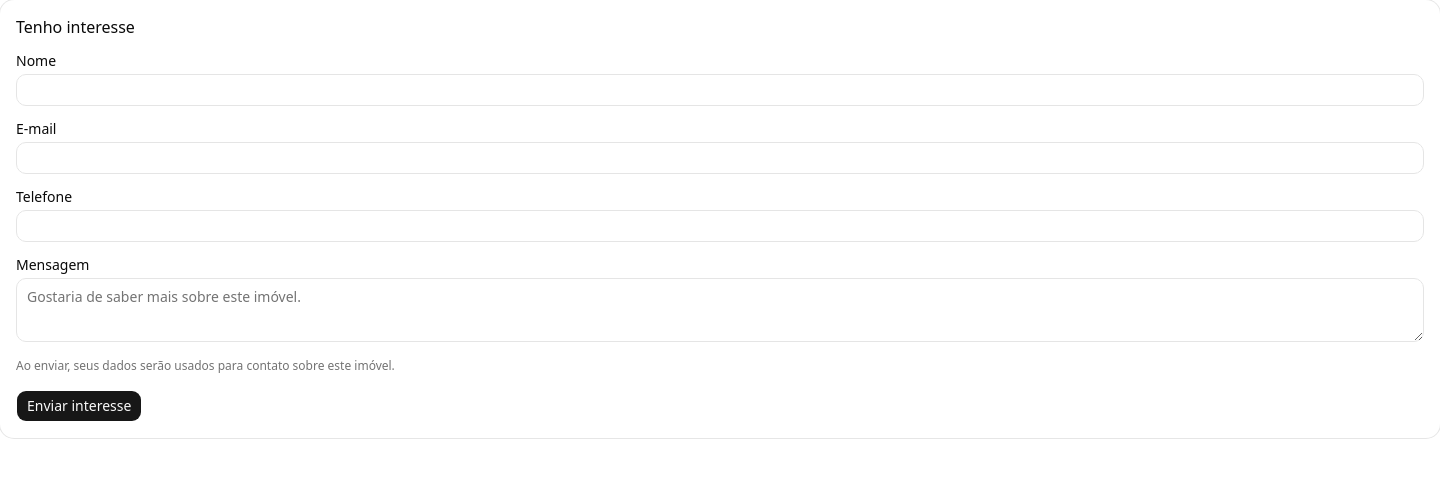
Test case: PropertyInterestForm — error handling › shows the rate-limit message for 429
Step 1. Type "Maria Souza" into the field labelled "Nome" → (720, 90), box x1=16 y1=74 x2=1424 y2=106
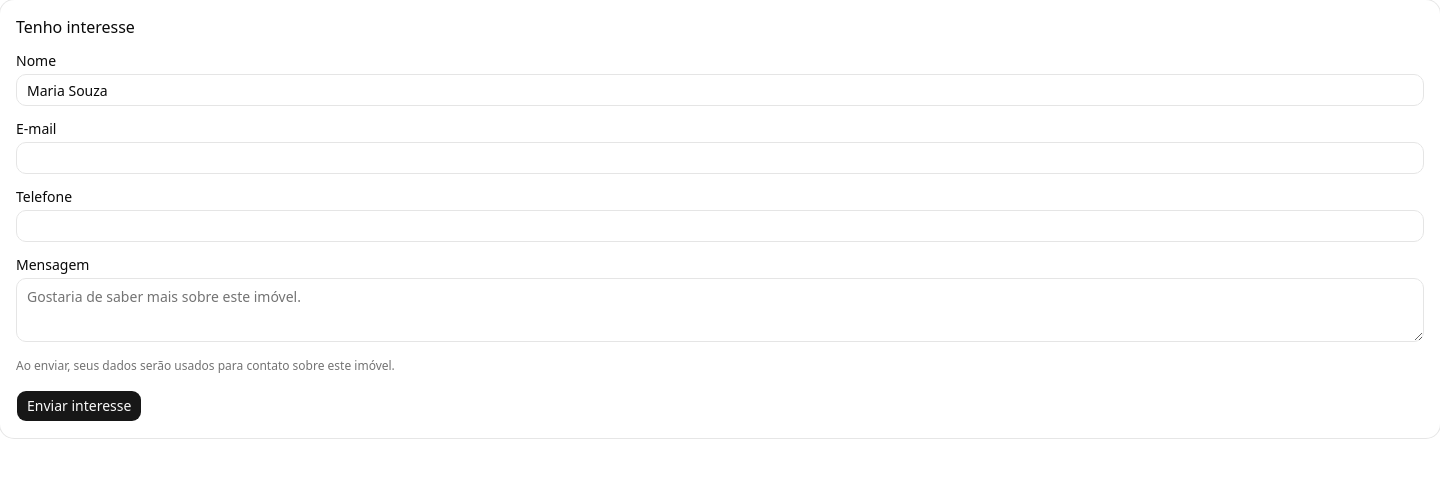
Step 2. Type "maria@example.com" into the field labelled "E-mail" → (720, 158), box x1=16 y1=142 x2=1424 y2=174
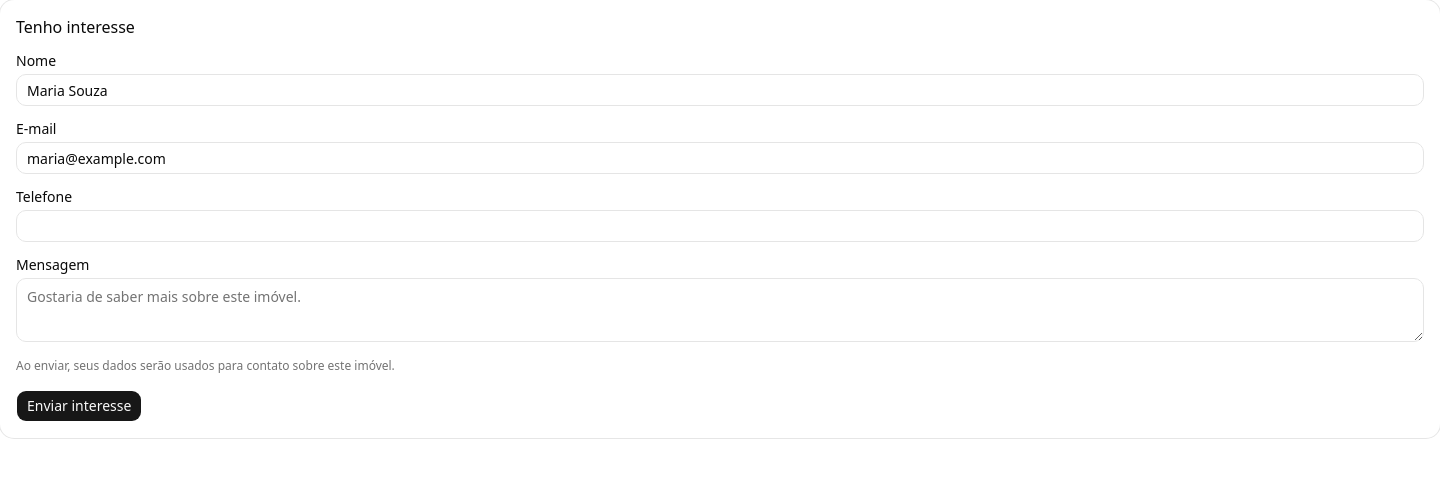
Step 3. Click the button "Enviar interesse" → (79, 406), box x1=16 y1=390 x2=142 y2=422
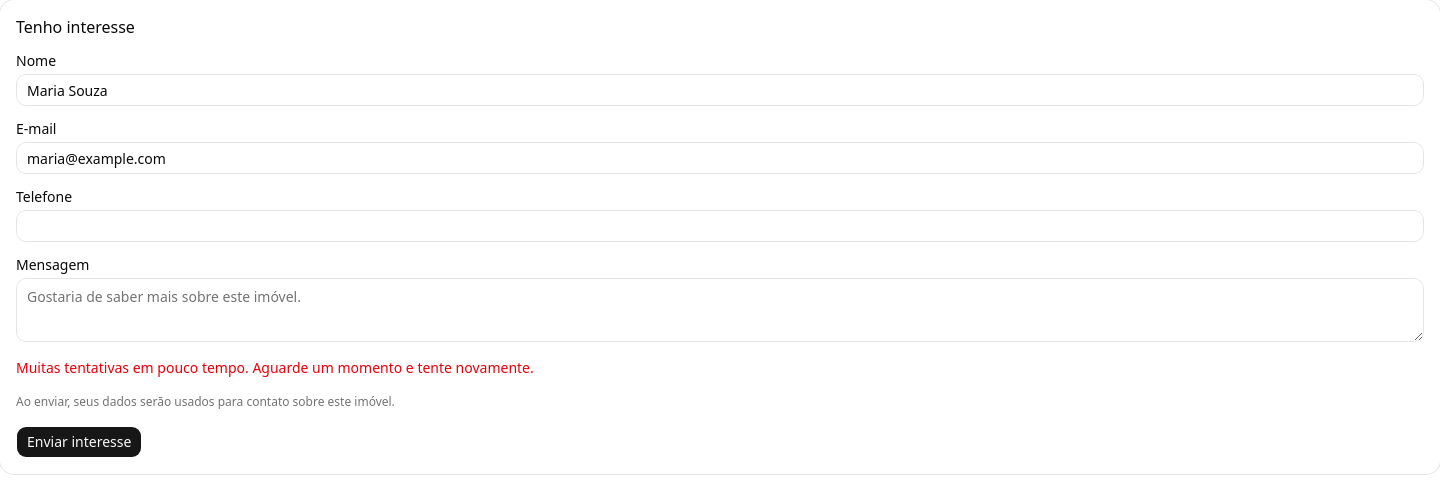
Now the message reads "Muitas tentativas em pouco tempo. Aguarde um momento e tente novamente.", box x1=16 y1=358 x2=534 y2=377
